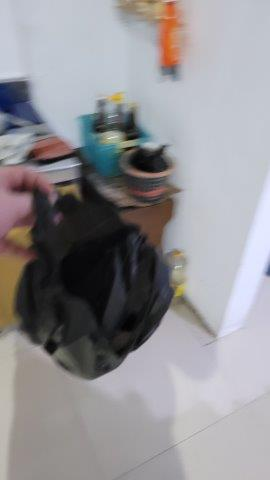plastik: (14, 180, 175, 381)
